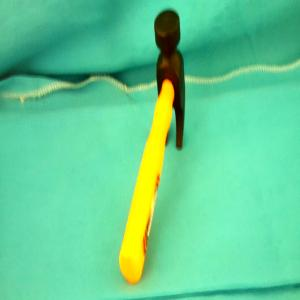martelo: (118, 10, 186, 283)
